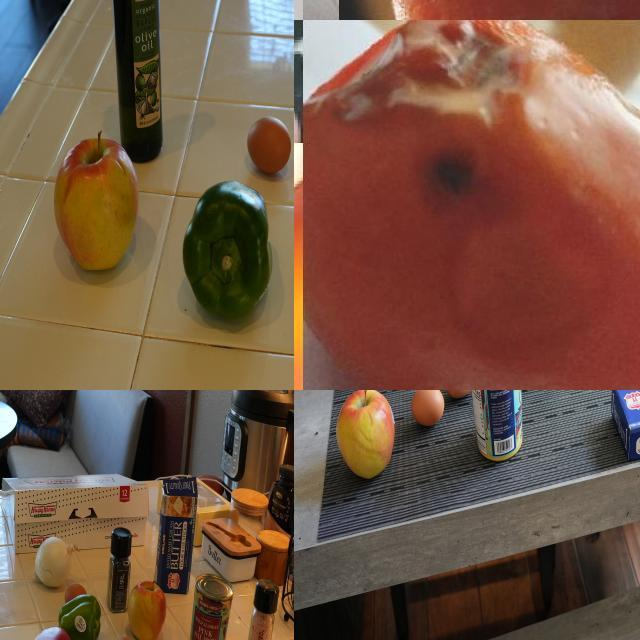bell_pepper: (170, 175, 284, 329), (103, 523, 133, 617), (63, 597, 105, 640)
egg: (243, 110, 295, 182), (413, 391, 446, 428), (60, 586, 86, 611)
onion: (32, 536, 73, 588)
